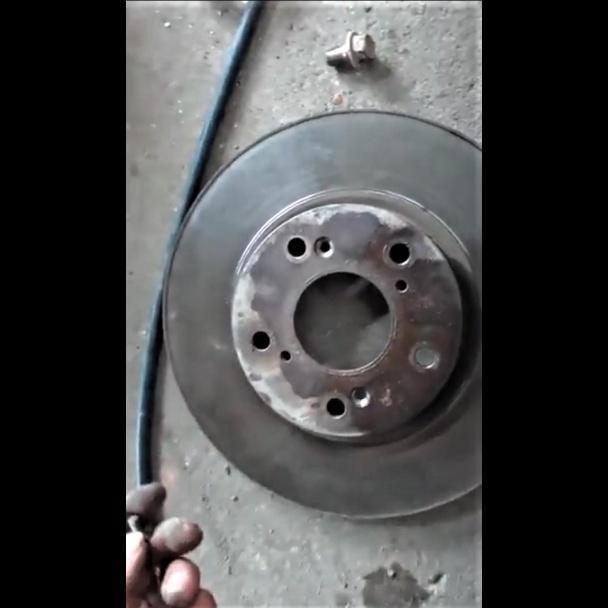hole: (387, 241, 411, 263), (349, 384, 371, 407), (413, 344, 436, 366), (324, 395, 346, 417), (312, 235, 333, 258), (285, 235, 306, 257), (251, 329, 271, 350), (278, 348, 292, 361), (393, 277, 407, 290)
